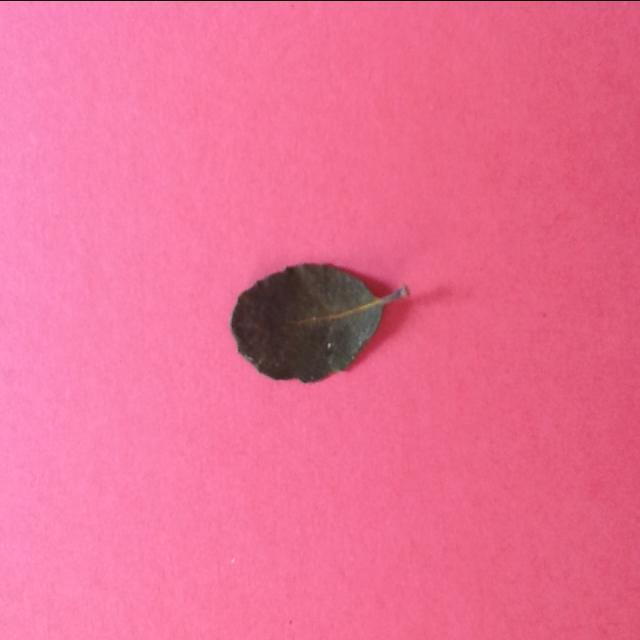foliage: (229, 266, 411, 386)
